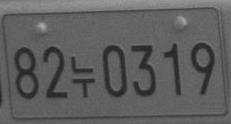0: (101, 44, 127, 97)
1: (162, 43, 186, 95)
2: (42, 45, 68, 97)
3: (130, 44, 157, 96)
8: (13, 45, 39, 98)
9: (189, 41, 215, 94)
누: (69, 55, 96, 98)
